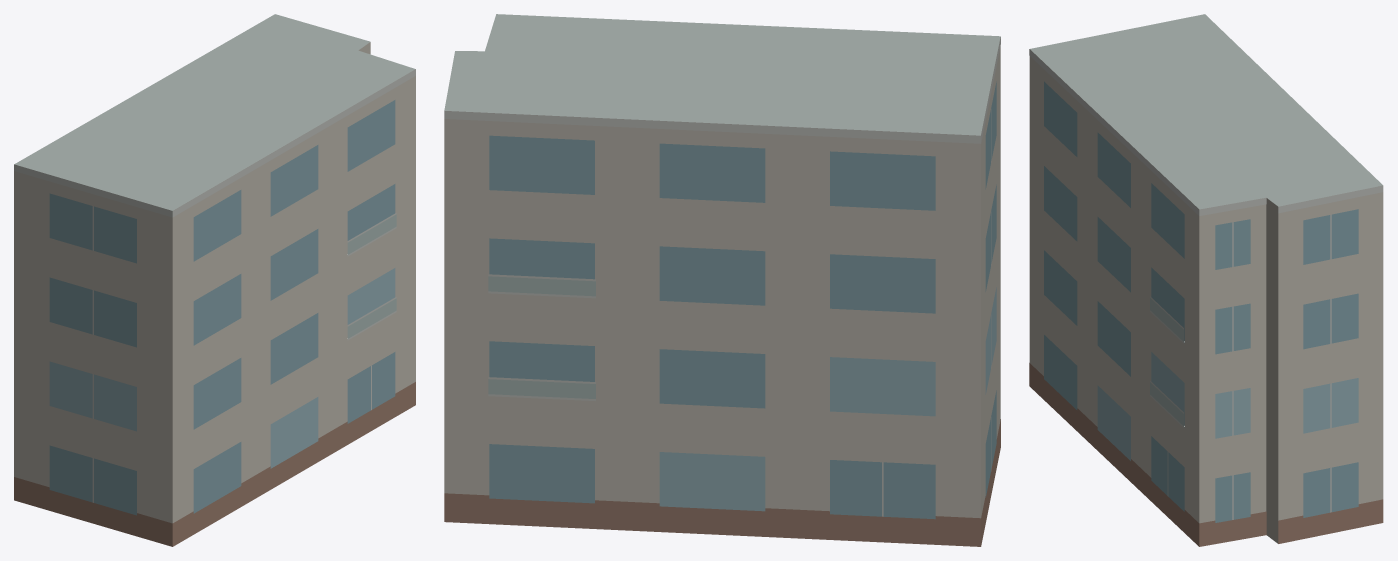
Rendered from survey-upis-32584449.glb.
The picture shows the model from 3 angles, left to right: view 1: azimuth 30°, elevation 25°; view 2: azimuth 150°, elevation 25°; view 3: azimuth 270°, elevation 25°; orthographic projection. The views are drawn at different scales.
Visible parts, largest first — view 1: survey-upis-32584449.tmp; view 2: survey-upis-32584449.tmp; view 3: survey-upis-32584449.tmp.
Part boxes in pixels (<box>): survey-upis-32584449.tmp: <box>14,14,415,546</box>; survey-upis-32584449.tmp: <box>444,14,1000,546</box>; survey-upis-32584449.tmp: <box>1029,14,1383,546</box>.
Bounding box in the file's own units: 15.29 × 12.3 × 11.7.
